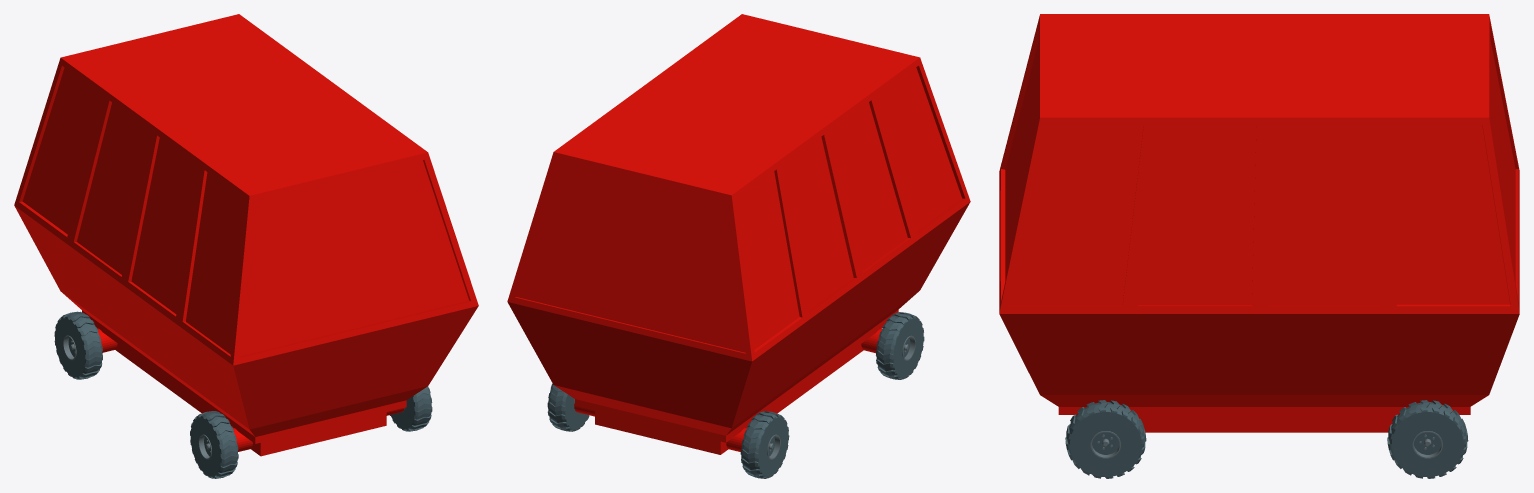
Rendered from Train.fbx.
3 renders of one model, left to right at view 1: azimuth 30°, elevation 25°; view 2: azimuth 150°, elevation 25°; view 3: azimuth 270°, elevation 25°, orthographic. The views are drawn at different scales.
Parts seen in each view (by area): view 1: Cube; view 2: Cube; view 3: Cube.
Boxes of the visible parts, x1=… form: Cube: x1=14, y1=14, x2=478, y2=478; Cube: x1=507, y1=14, x2=970, y2=478; Cube: x1=999, y1=14, x2=1519, y2=478.
Size of the model in its own units: 220 by 255 by 340.
